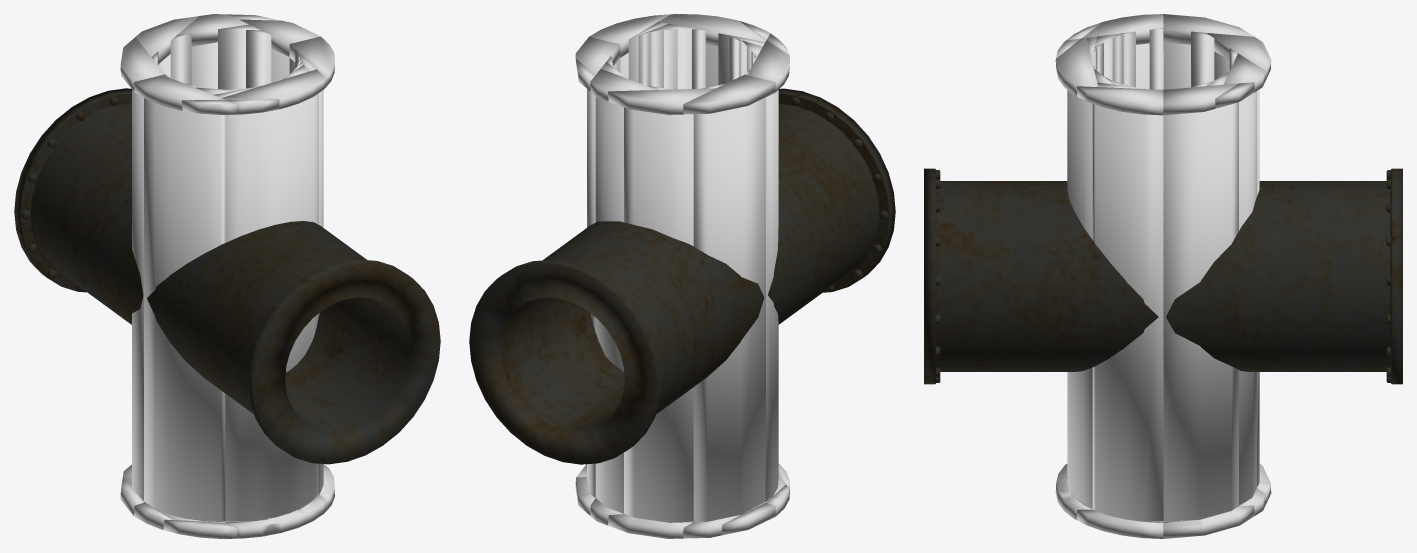
The model's file is SM_Pipes_XLarge_Half.fbx.
The picture shows the model from 3 angles, left to right: view 1: azimuth 30°, elevation 25°; view 2: azimuth 150°, elevation 25°; view 3: azimuth 270°, elevation 25°; orthographic projection.
Visible parts, largest first — view 1: SM_Pipes_XLarge_Half_ConvexHulls, SM_Pipes_XLarge_Half; view 2: SM_Pipes_XLarge_Half_ConvexHulls, SM_Pipes_XLarge_Half; view 3: SM_Pipes_XLarge_Half_ConvexHulls, SM_Pipes_XLarge_Half.
Part boxes in pixels (left/top/right/bottom): SM_Pipes_XLarge_Half_ConvexHulls: left=120, top=14, right=334, bottom=538; SM_Pipes_XLarge_Half: left=14, top=88, right=440, bottom=464; SM_Pipes_XLarge_Half_ConvexHulls: left=575, top=14, right=789, bottom=538; SM_Pipes_XLarge_Half: left=469, top=88, right=895, bottom=464; SM_Pipes_XLarge_Half_ConvexHulls: left=1055, top=14, right=1271, bottom=538; SM_Pipes_XLarge_Half: left=924, top=168, right=1402, bottom=384.
Bounding box in the file's own units: 1.8 × 4 × 4.
